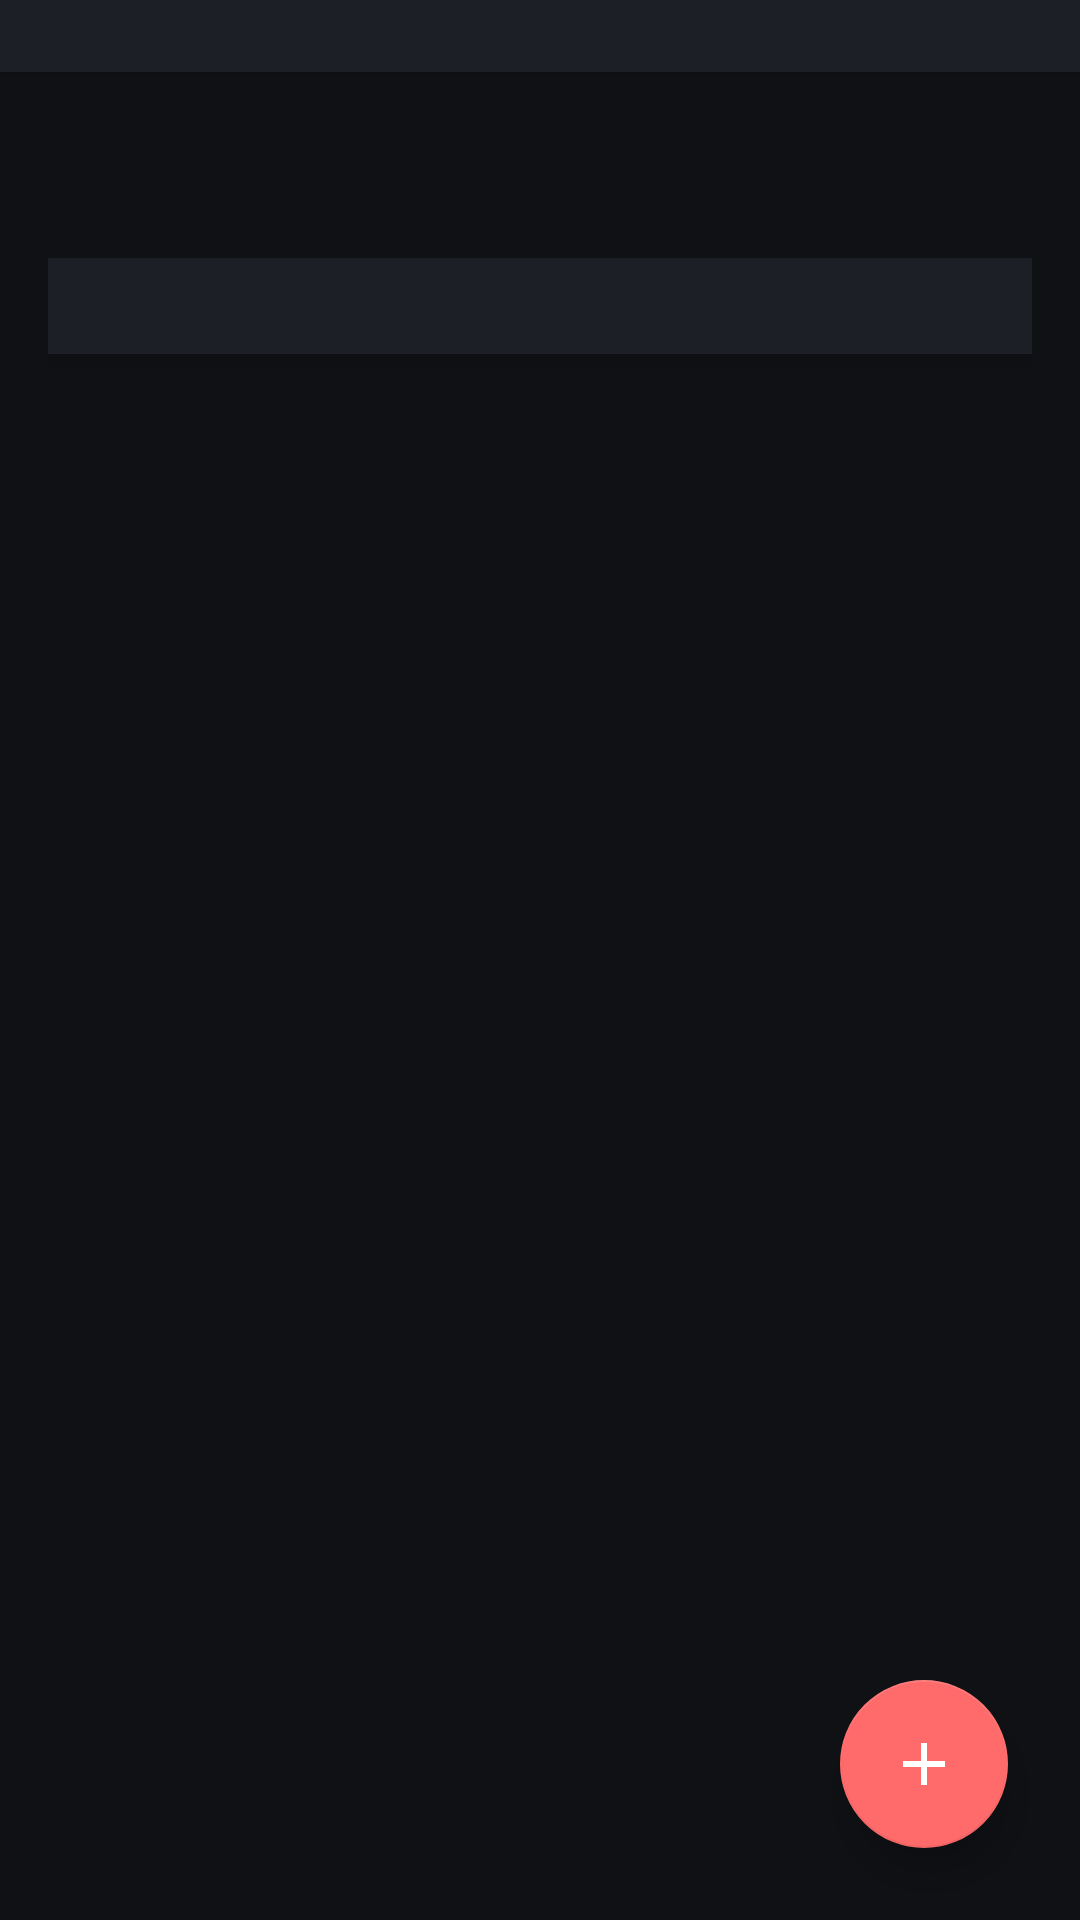

Where icons sit on this 1080x1920 app screen, as rect(x1, y1, x2, y2):
add neon: rect(840, 1680, 1008, 1848)
